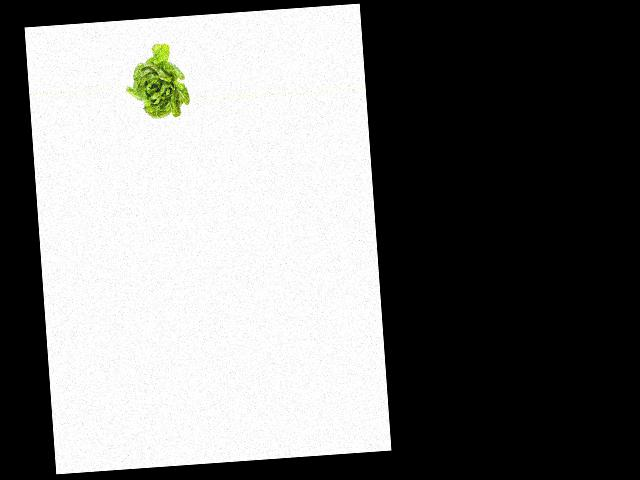lettuce: (122, 39, 188, 121)
